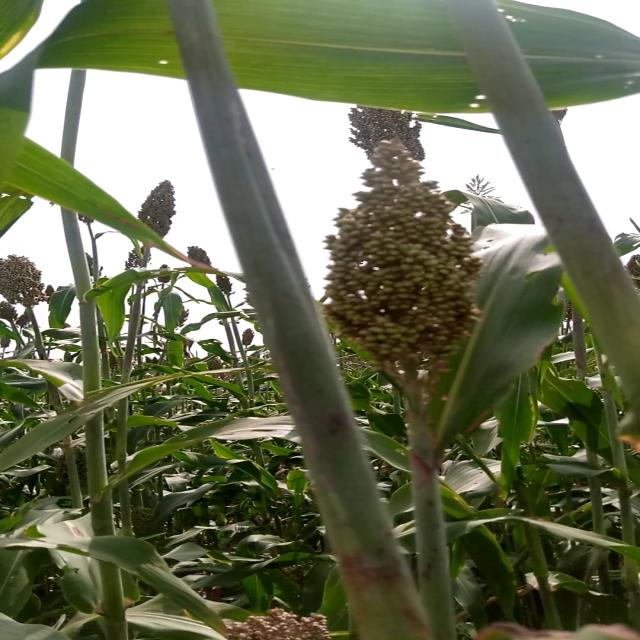UnripeSorghum: (306, 132, 528, 386)
